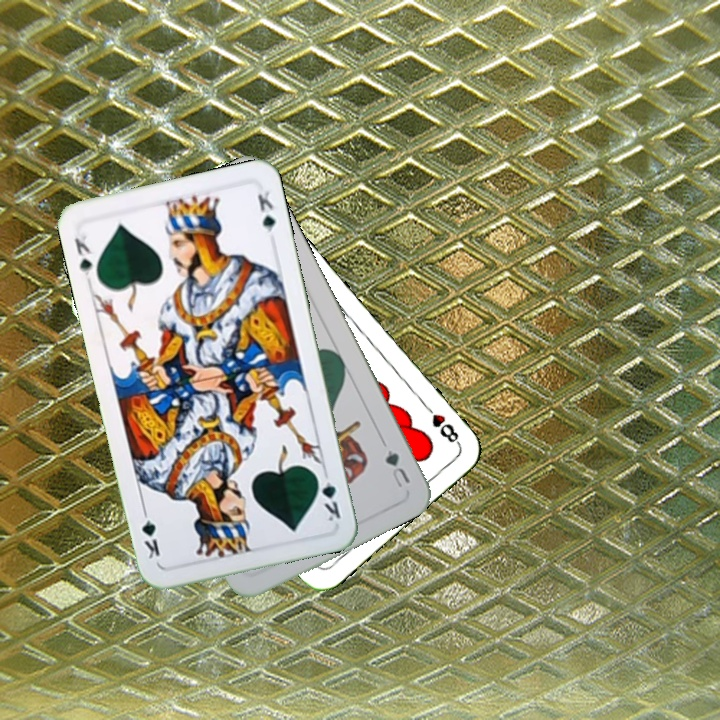GK: (312, 468, 343, 524), (70, 227, 98, 278)
GU: (381, 445, 413, 491)
H8: (419, 399, 463, 448)
